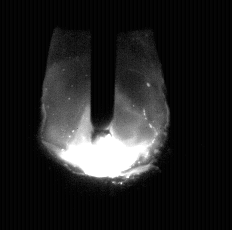arame: (90, 0, 116, 143)
poca: (41, 0, 169, 230)
